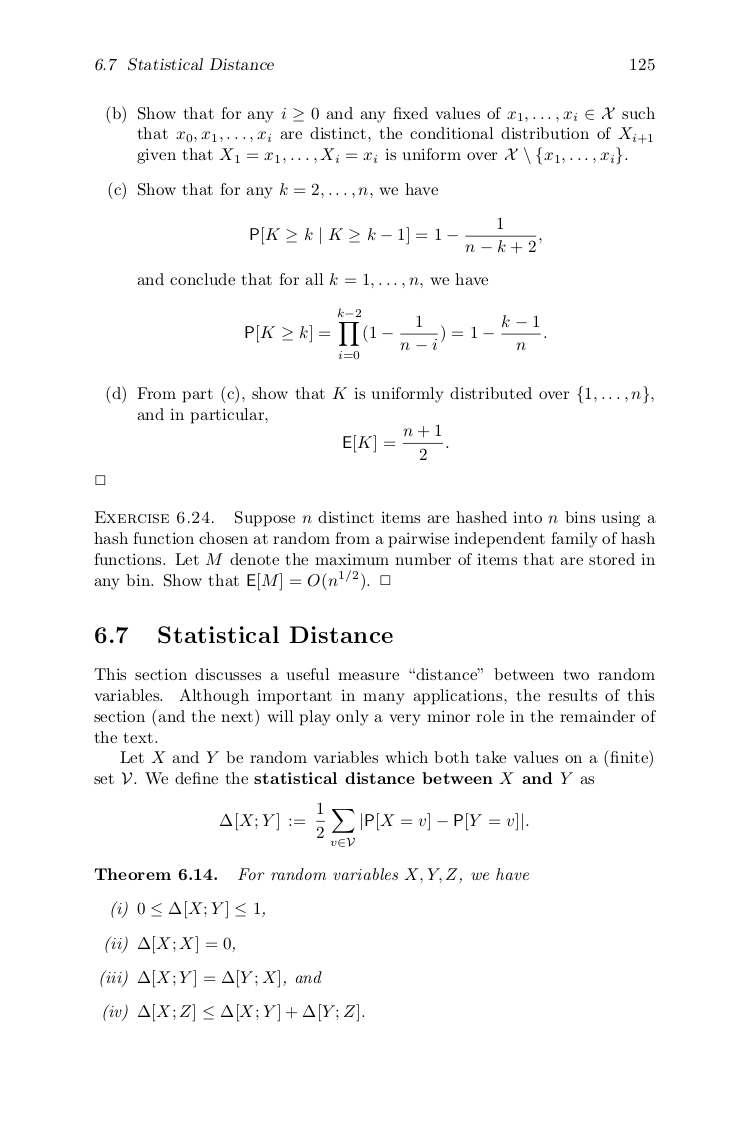formula: (245, 307, 546, 360), (220, 801, 528, 847), (250, 216, 541, 254), (103, 1002, 364, 1022), (100, 968, 321, 988), (343, 424, 448, 459), (111, 900, 264, 919), (105, 935, 234, 954)
